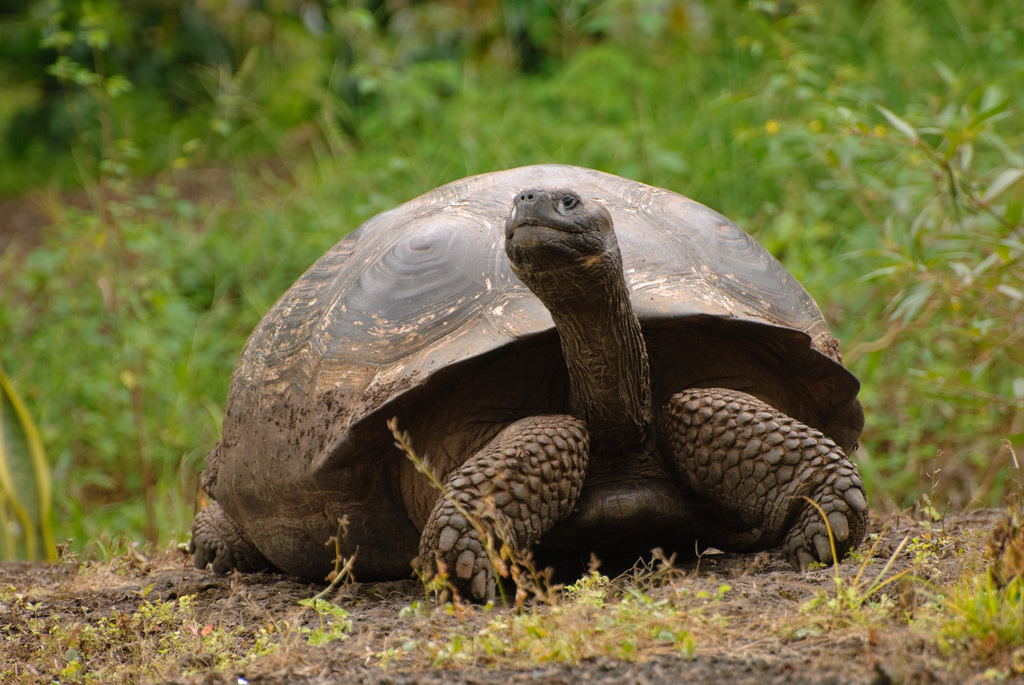Sea turtles: (186, 161, 872, 610)
